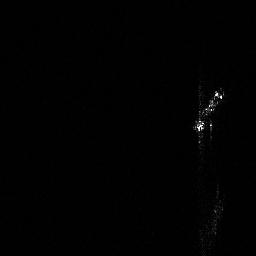ship: (188, 84, 228, 135)
